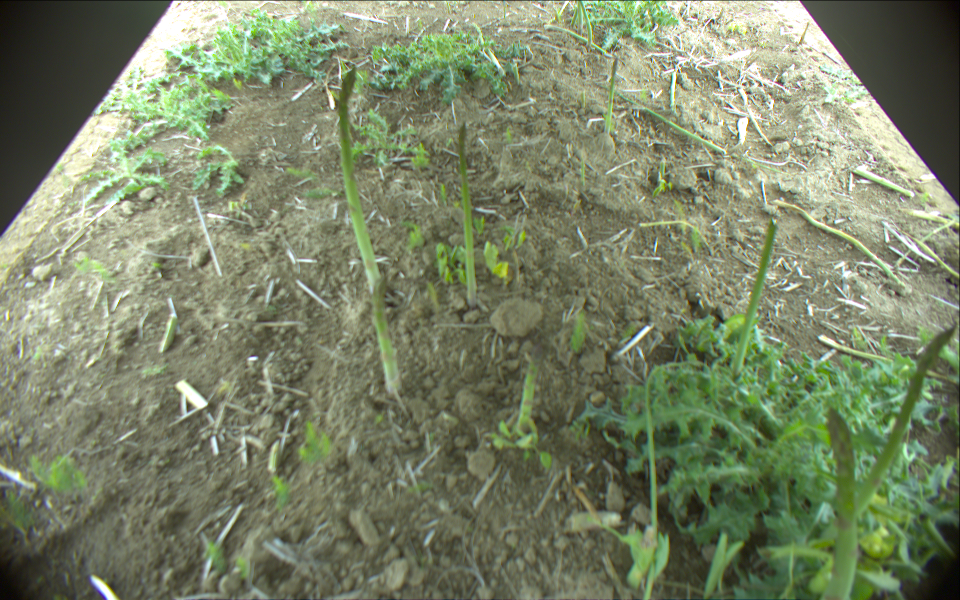aspa: (816, 319, 957, 555), (334, 64, 402, 392), (773, 198, 904, 287), (596, 82, 725, 154), (730, 219, 777, 378), (822, 408, 857, 600), (455, 121, 476, 306), (513, 344, 544, 439), (544, 23, 612, 59), (851, 169, 914, 198), (602, 59, 620, 134), (579, 1, 592, 48), (668, 69, 678, 108), (577, 1, 584, 34), (572, 6, 578, 24)
